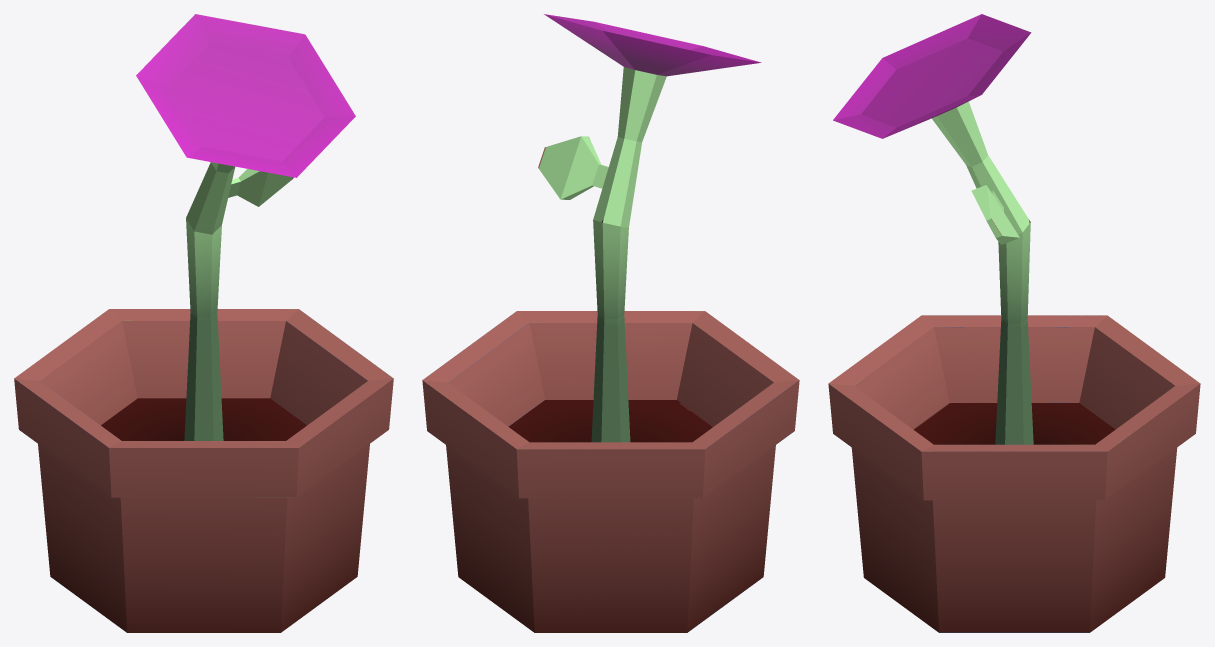
Rendered from flower.fbx.
3 renders of one model, left to right at view 1: azimuth 30°, elevation 25°; view 2: azimuth 150°, elevation 25°; view 3: azimuth 270°, elevation 25°, orthographic. The views are drawn at different scales.
Parts seen in each view (by area): view 1: Cylinder; view 2: Cylinder; view 3: Cylinder.
Part boxes in pixels (x1,y1,x2,y2): Cylinder: (14,14,393,632); Cylinder: (422,14,799,632); Cylinder: (828,14,1200,632).
Bounding box in the file's own units: 44.77 × 83.57 × 51.69.
